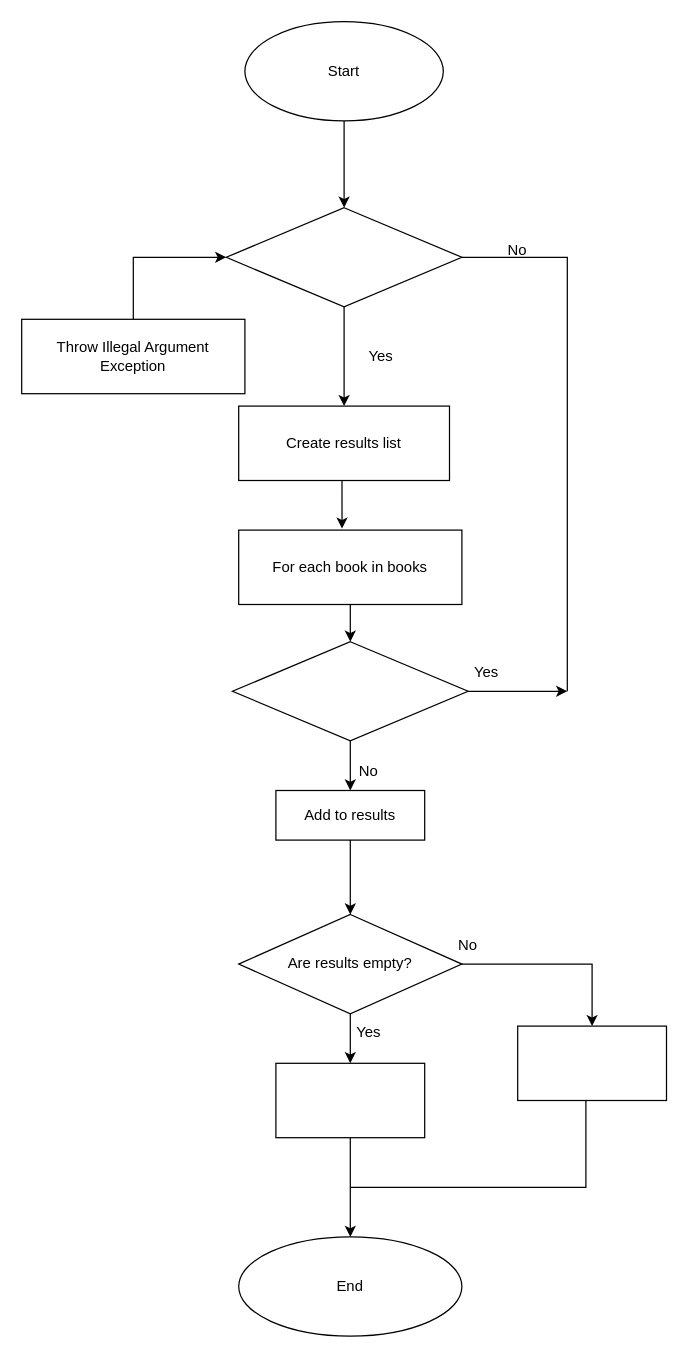
Some shapes in this 688 by 1358 pixel diagram are drawn without their labels. The shapes that lost their labels are listed below. From the top down, each one's box as (x1, y1, x2, y2) in pixels, then its label:
(225, 206, 462, 307): Is title empty?
(231, 640, 468, 741): Title matches AND Not borrowed?
(516, 1025, 666, 1100): Return results
(275, 1062, 425, 1138): Return null
